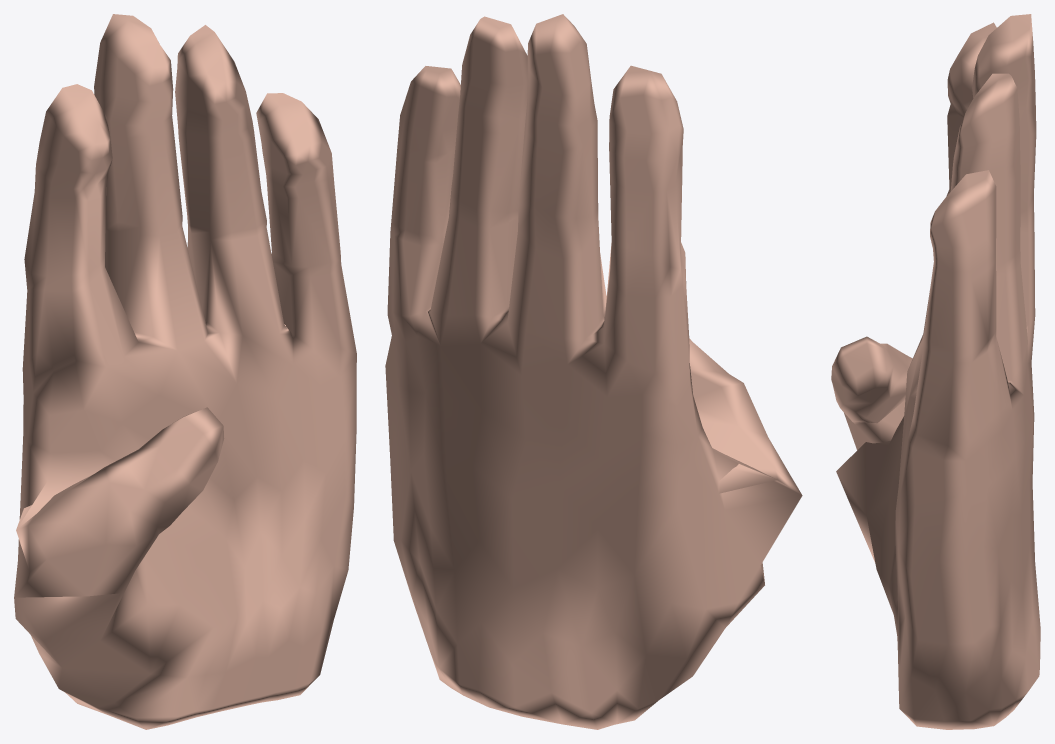
The model's file is MAO_B.obj.
The picture shows the model from 3 angles, left to right: view 1: azimuth 30°, elevation 25°; view 2: azimuth 150°, elevation 25°; view 3: azimuth 270°, elevation 25°; orthographic projection. The views are drawn at different scales.
Parts seen in each view (by area): view 1: mao_dir polySurface1; view 2: mao_dir polySurface1; view 3: mao_dir polySurface1.
Part boxes in pixels (left/top/right/bottom): mao_dir polySurface1: left=14, top=14, right=356, bottom=729; mao_dir polySurface1: left=385, top=14, right=802, bottom=729; mao_dir polySurface1: left=831, top=14, right=1040, bottom=729.
Size of the model in its own units: 134 by 243 by 70.56.
